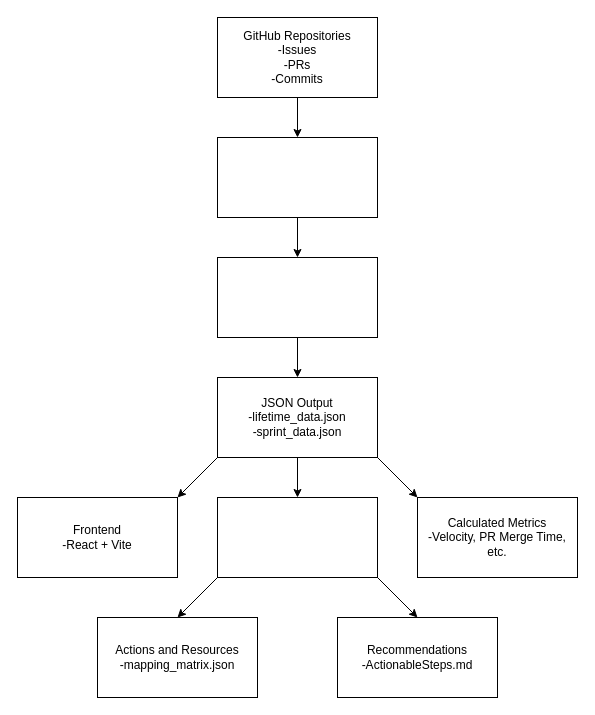
Image size: 595x715. Some labels were removed from this diagram. Each missing label, with the centre of its shape:
Actionable Insights -Logic Layer: (297,537)
Data Collection -Python/PyGithub: (297,177)
Data Processing -Pandas -Python Scripts: (297,297)
